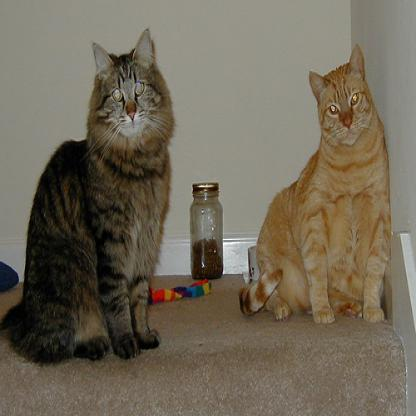cat: (1, 25, 174, 366), (238, 40, 392, 322)
